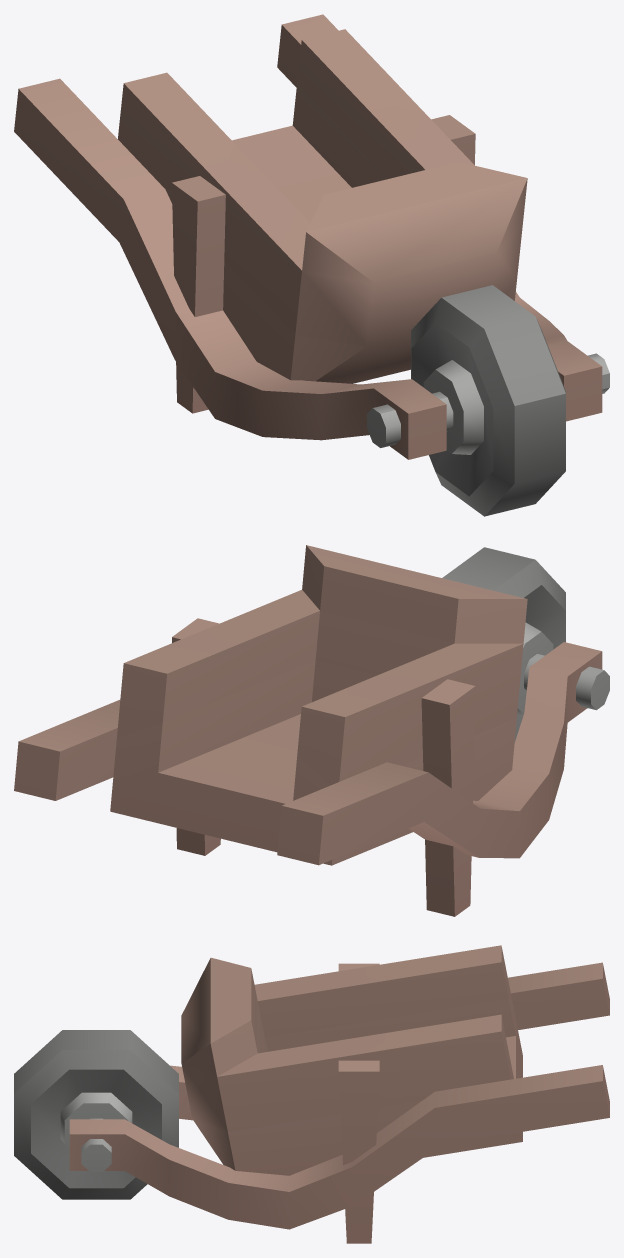
File: wheelbarrow.gltf
The picture shows the model from 3 angles, top to bottom: view 1: azimuth 30°, elevation 25°; view 2: azimuth 150°, elevation 25°; view 3: azimuth 270°, elevation 25°; orthographic projection. The views are drawn at different scales.
Visible parts, largest first — view 1: wheelbarrow; view 2: wheelbarrow; view 3: wheelbarrow.
Part boxes in pixels (x1,y1,x2,y2): wheelbarrow: (14,14,609,516); wheelbarrow: (14,545,609,916); wheelbarrow: (14,945,609,1243).
Bounding box in the file's own units: 0.238 × 0.1884 × 0.5057.
